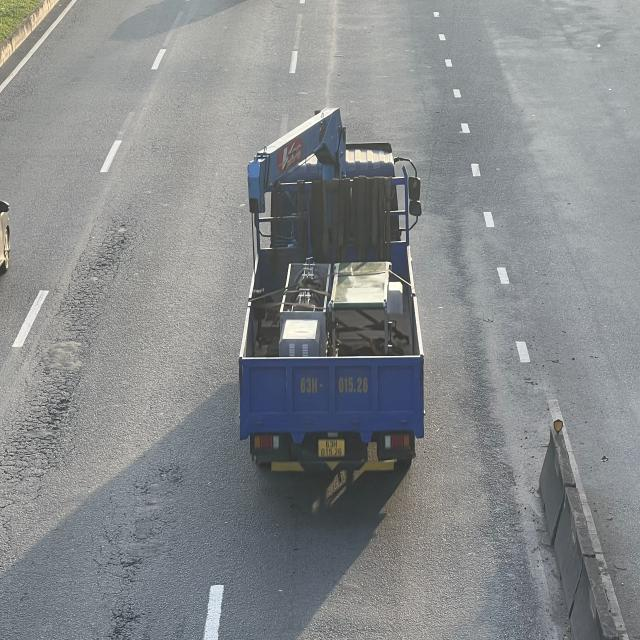truck: (236, 107, 420, 478)
